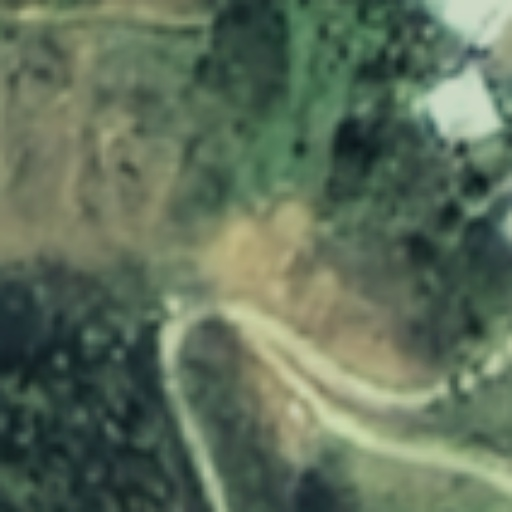landslide: (199, 198, 399, 377)
